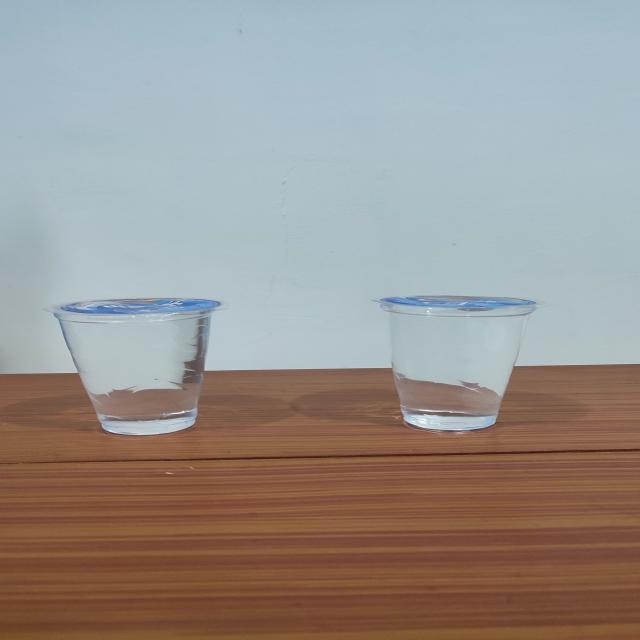air gelas: (366, 282, 547, 443), (43, 286, 228, 440)
